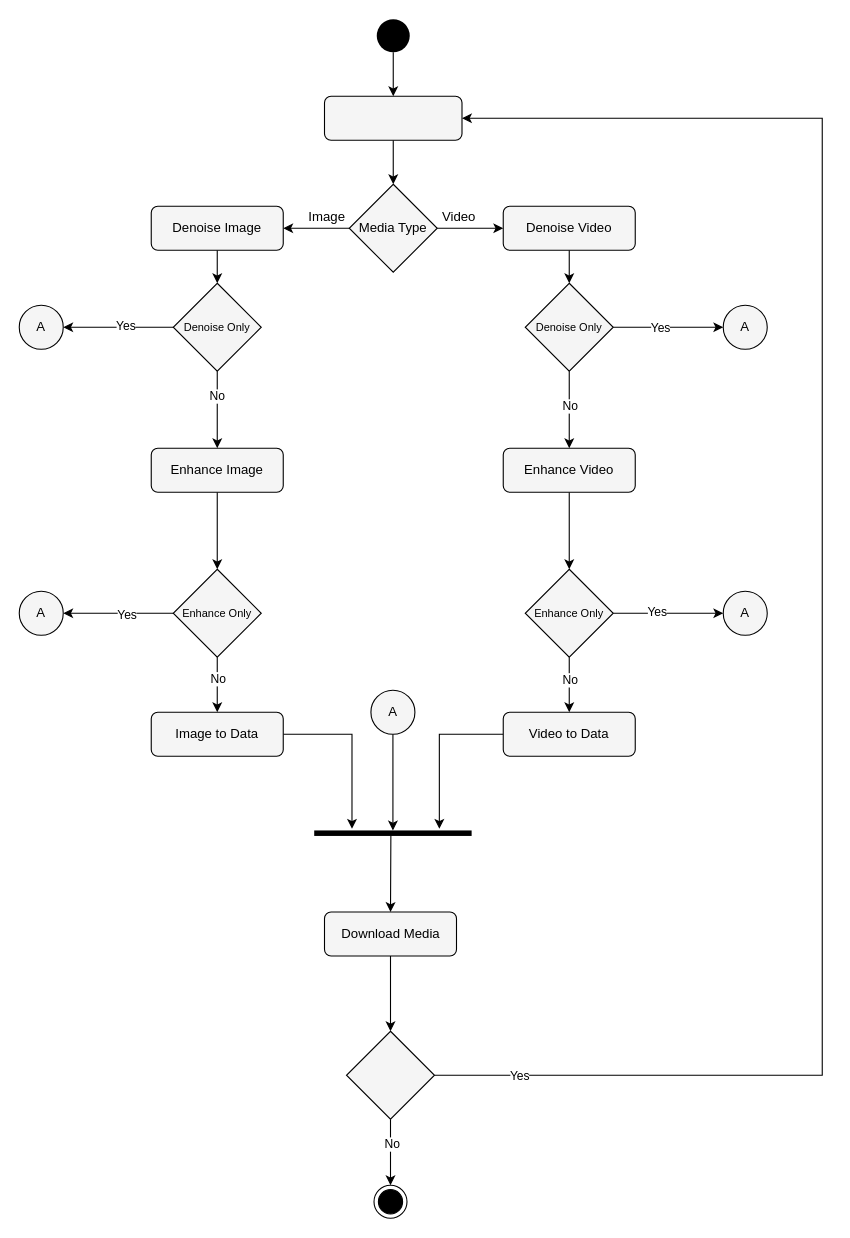
Image size: 850x1238. Some labels were removed from this diagram. The centre of each missing label's shape, as x and y in pixels:
"Again?" belongs at point (390, 1074).
"Upload Media" belongs at point (392, 117).
